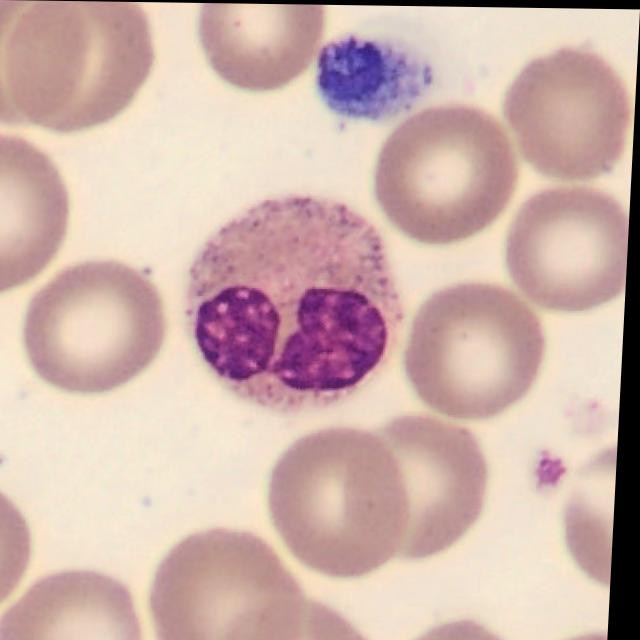Neutrofilo segmentado: (192, 196, 406, 403)
